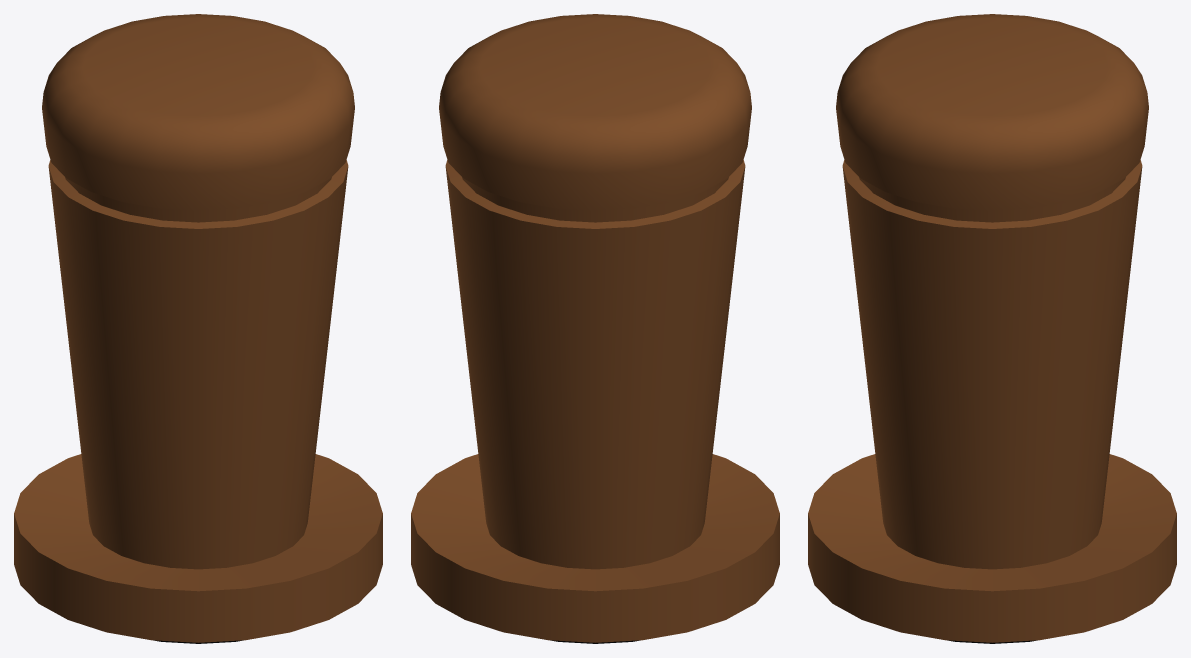
File: damga2.fbx
3 renders of one model, left to right at view 1: azimuth 30°, elevation 25°; view 2: azimuth 150°, elevation 25°; view 3: azimuth 270°, elevation 25°, orthographic.
Parts seen in each view (by area): view 1: damga2; view 2: damga2; view 3: damga2.
Boxes of the visible parts, x1,y1,x2,y2 form: damga2: [14, 14, 382, 643]; damga2: [411, 14, 779, 643]; damga2: [808, 14, 1176, 643].
Size of the model in its own units: 64.34 by 64.34 by 99.45.
